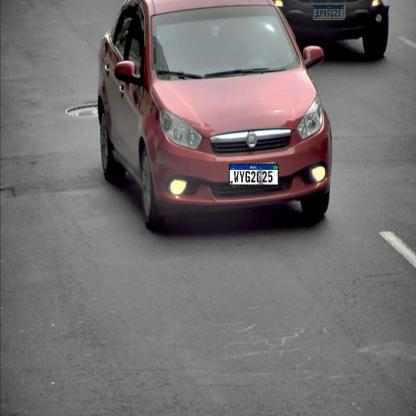PlacaM: (229, 164, 279, 186), (314, 5, 344, 19)
